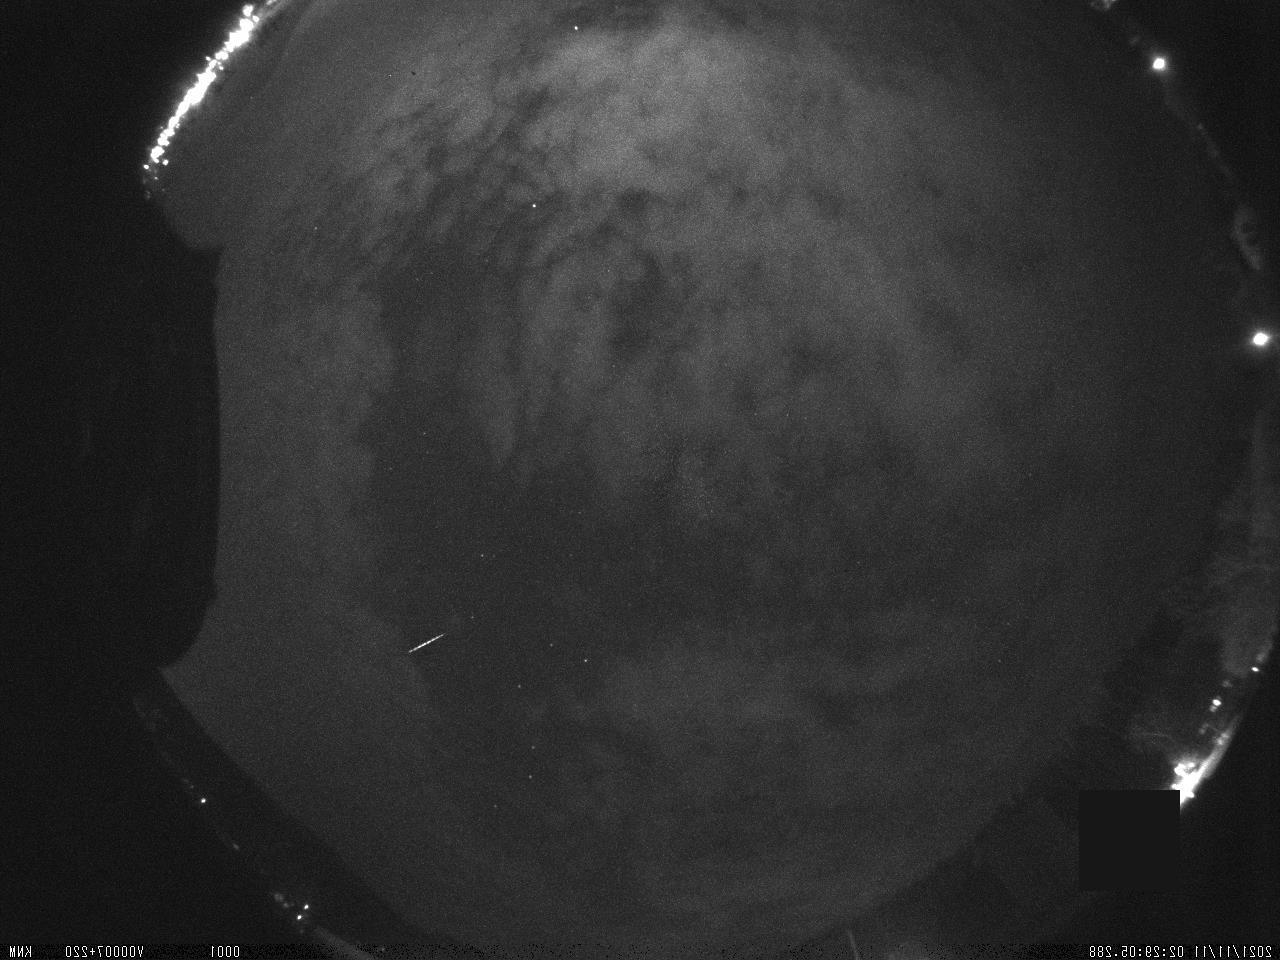meteor: (399, 616, 454, 668)
